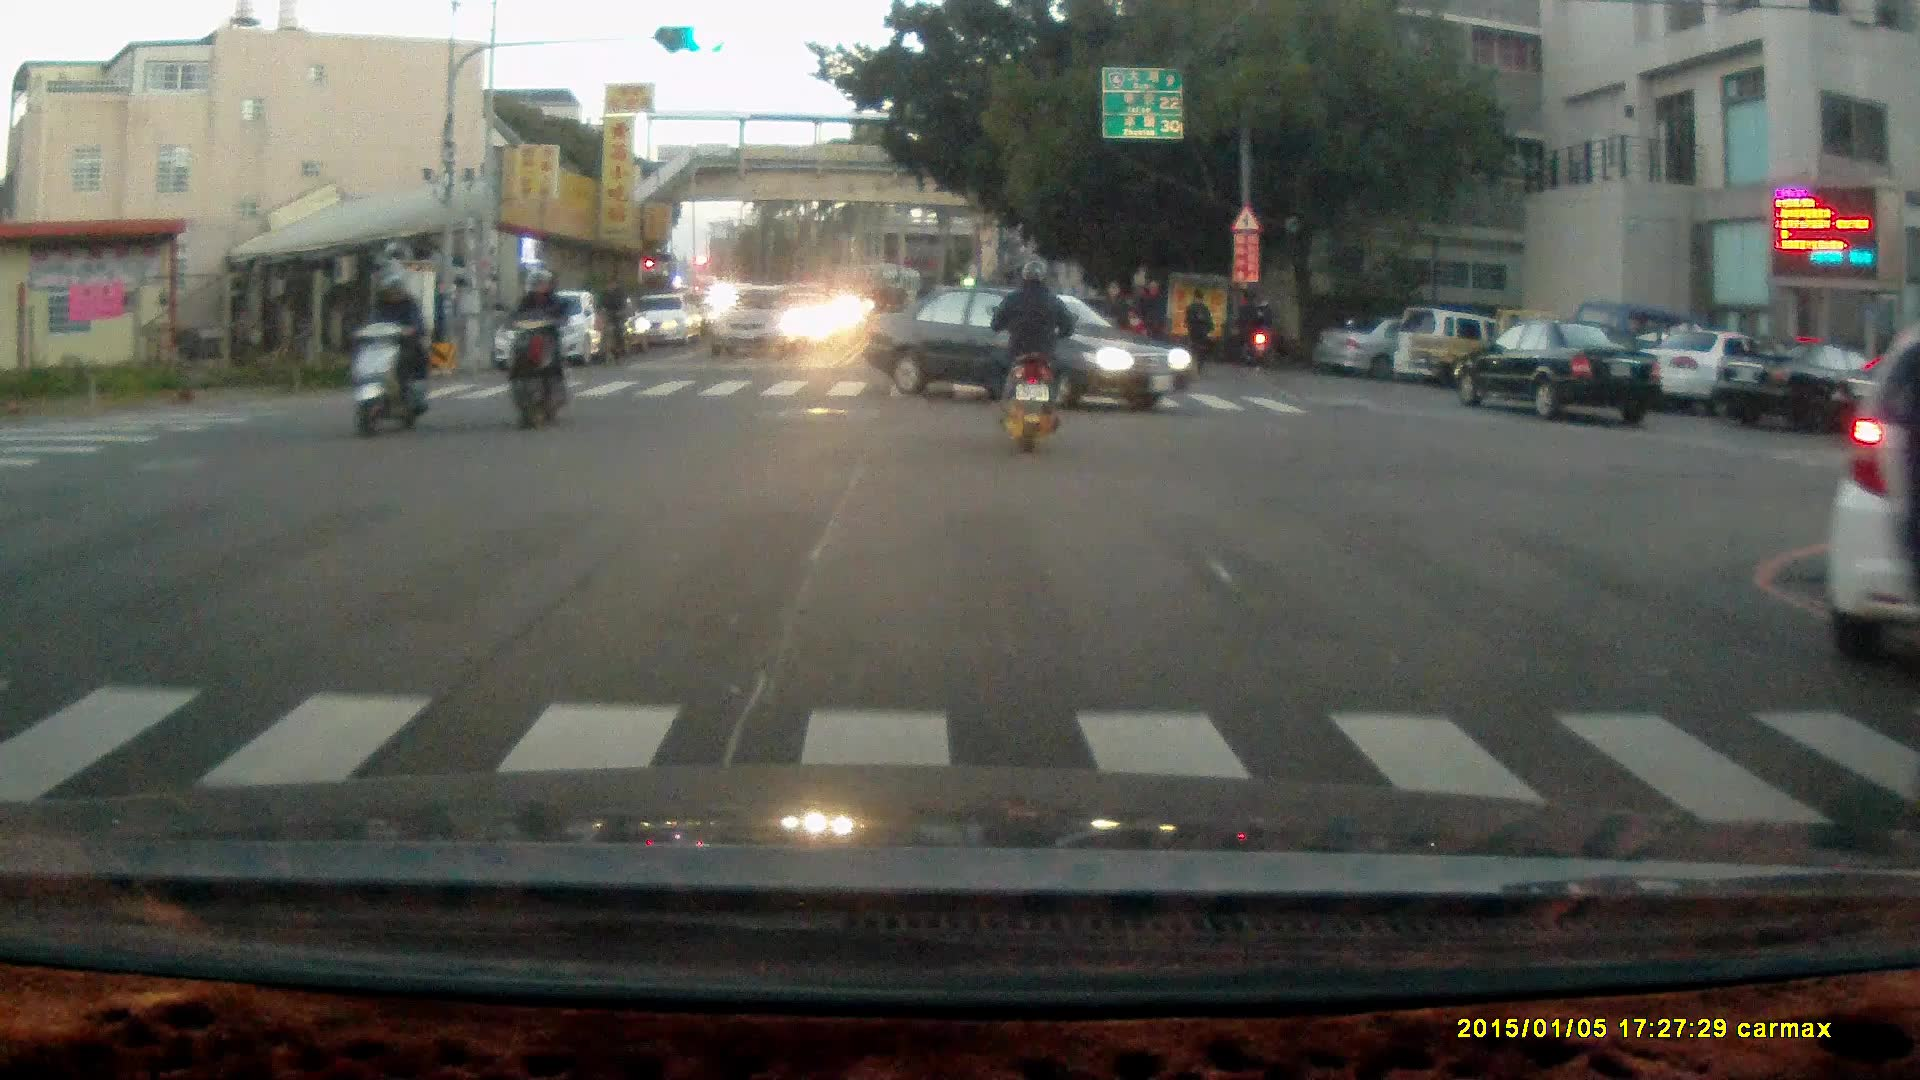pedestrian: (1132, 278, 1167, 368), (1181, 288, 1214, 382), (1232, 288, 1263, 365), (1094, 279, 1124, 361)
rider: (990, 253, 1076, 448), (350, 262, 433, 438), (493, 264, 570, 431), (590, 273, 629, 368), (1237, 297, 1278, 363)
vehicle: (857, 276, 1193, 413), (1459, 316, 1667, 423), (1719, 340, 1904, 440), (1625, 325, 1813, 418), (1313, 312, 1495, 370), (496, 289, 615, 368), (706, 282, 807, 361)
